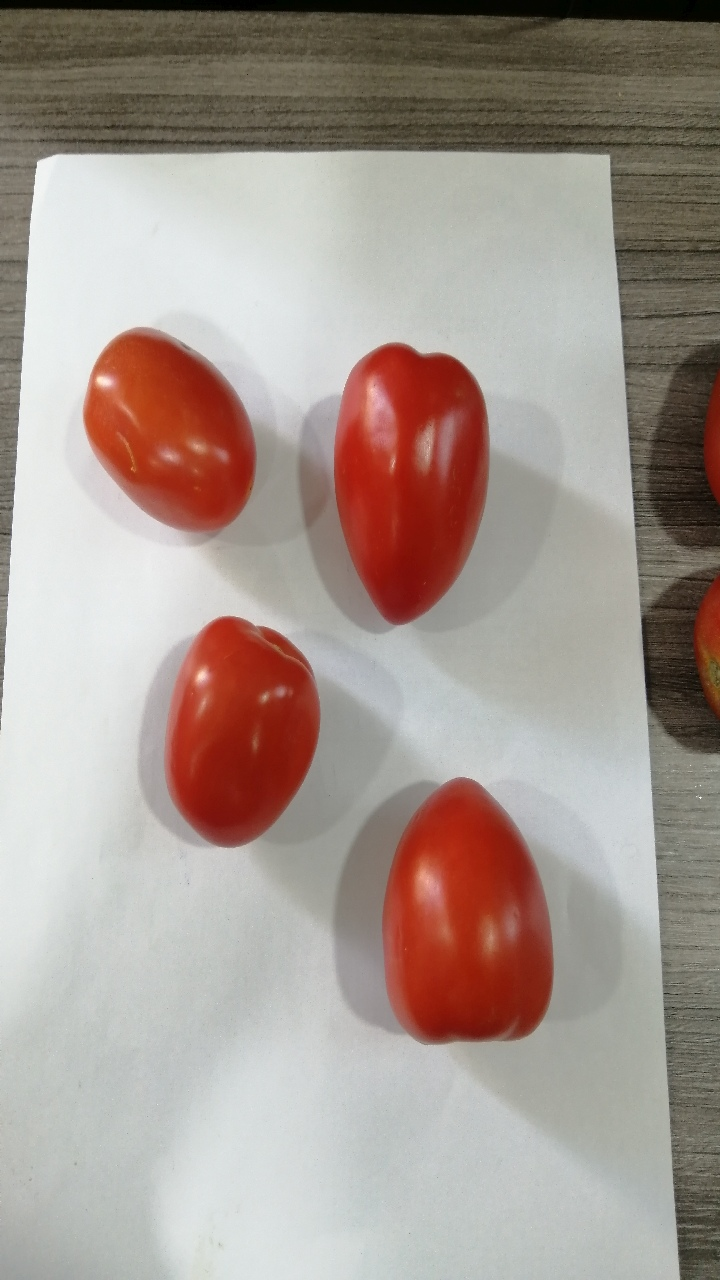tomateRojo: (306, 326, 508, 629), (354, 765, 561, 1060), (63, 282, 272, 552), (134, 606, 335, 859)
